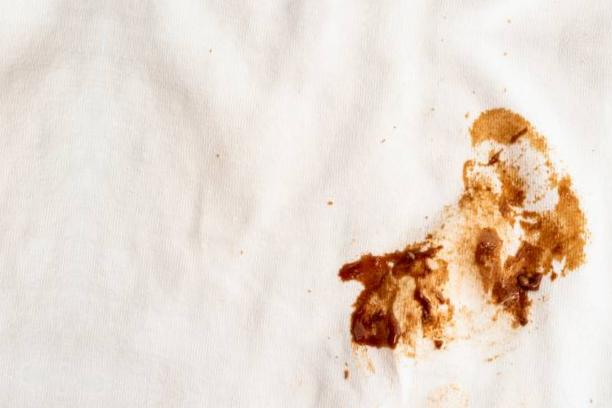stain: (340, 103, 595, 360)
